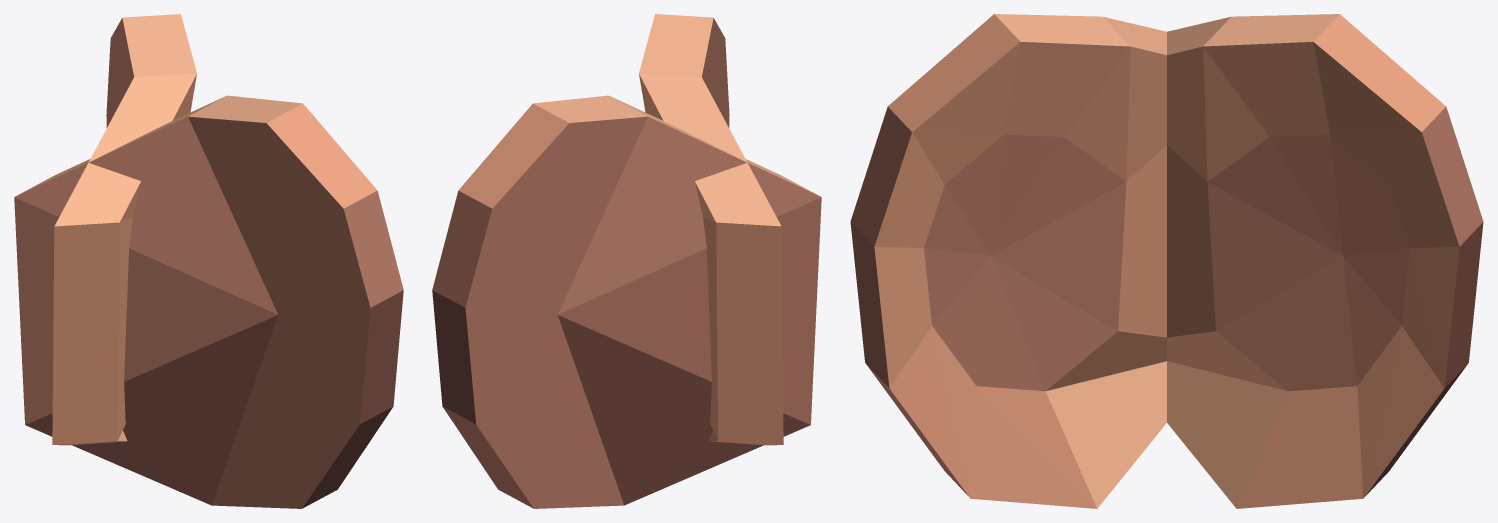
Rendered from dw_round.glb.
3 views of the same model, side by side, from view 1: azimuth 30°, elevation 25°; view 2: azimuth 150°, elevation 25°; view 3: azimuth 270°, elevation 25° (orthographic). The views are drawn at different scales.
Parts seen in each view (by area): view 1: Ear_R, Ear_L; view 2: Ear_L, Ear_R; view 3: Ear_L, Ear_R.
Boxes of the visible parts, box(x1,y1,x2,y2) form: Ear_R: box(14, 95, 403, 508); Ear_L: box(52, 14, 196, 445); Ear_L: box(432, 95, 821, 508); Ear_R: box(639, 14, 783, 445); Ear_L: box(1167, 14, 1483, 508); Ear_R: box(850, 14, 1166, 508).
Bounding box in the file's own units: 0.0346 × 0.0533 × 0.0639.
Materials: 1 (1 with a texture image).
